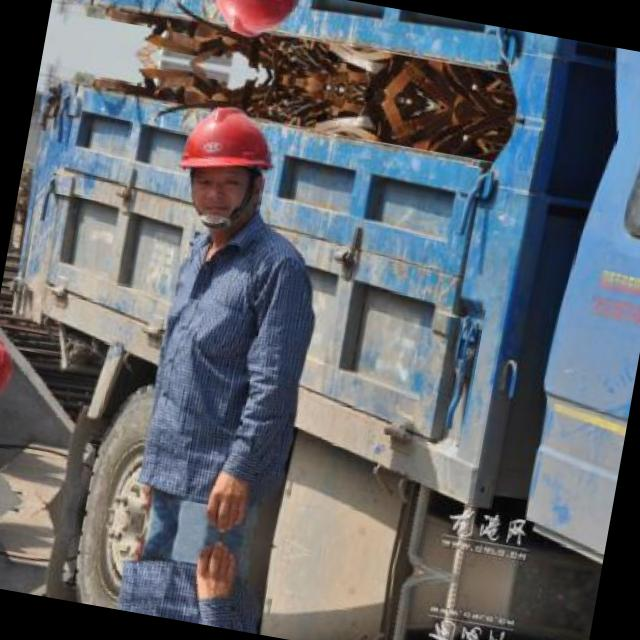helmet: (158, 84, 293, 243), (190, 0, 313, 57)
